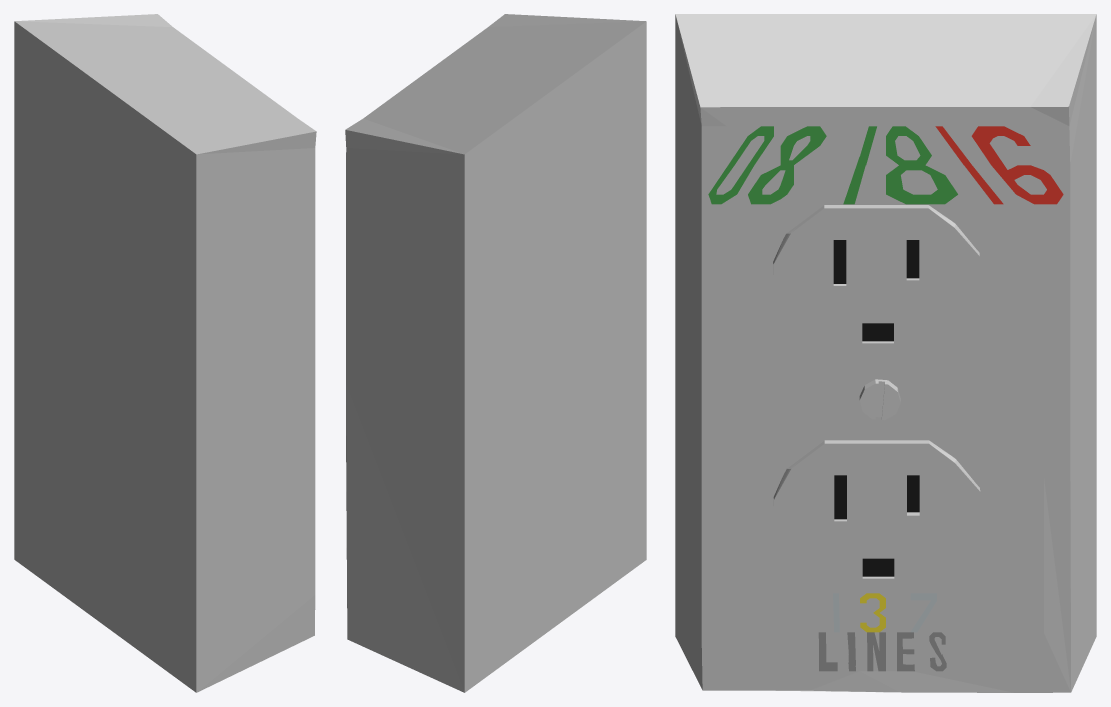
The model's file is Outlet.fbx.
The picture shows the model from 3 angles, left to right: view 1: azimuth 30°, elevation 25°; view 2: azimuth 150°, elevation 25°; view 3: azimuth 270°, elevation 25°; orthographic projection. The views are drawn at different scales.
Parts seen in each view (by area): view 1: group2022494681; view 2: group2022494681; view 3: group2022494681.
Boxes of the visible parts, x1=… form: group2022494681: x1=14, y1=14, x2=316, y2=692; group2022494681: x1=345, y1=14, x2=646, y2=692; group2022494681: x1=675, y1=14, x2=1096, y2=692.
Size of the model in its own units: 58.51 by 217 by 133.
